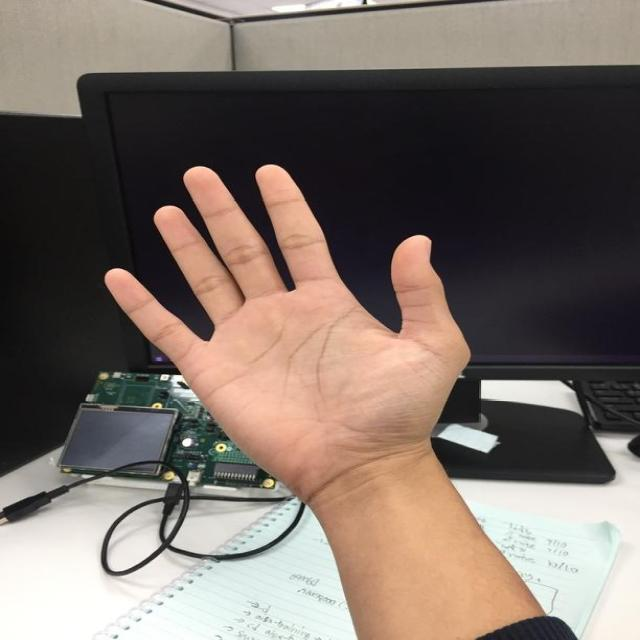no-gloves: (102, 159, 476, 482)
